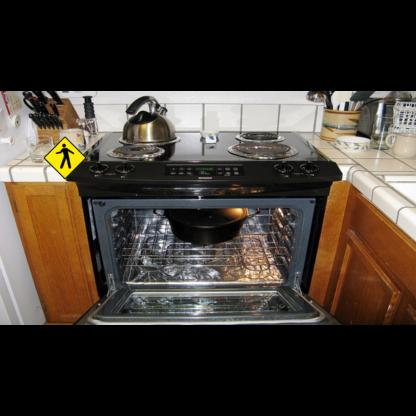A-32a: (43, 136, 86, 179)
